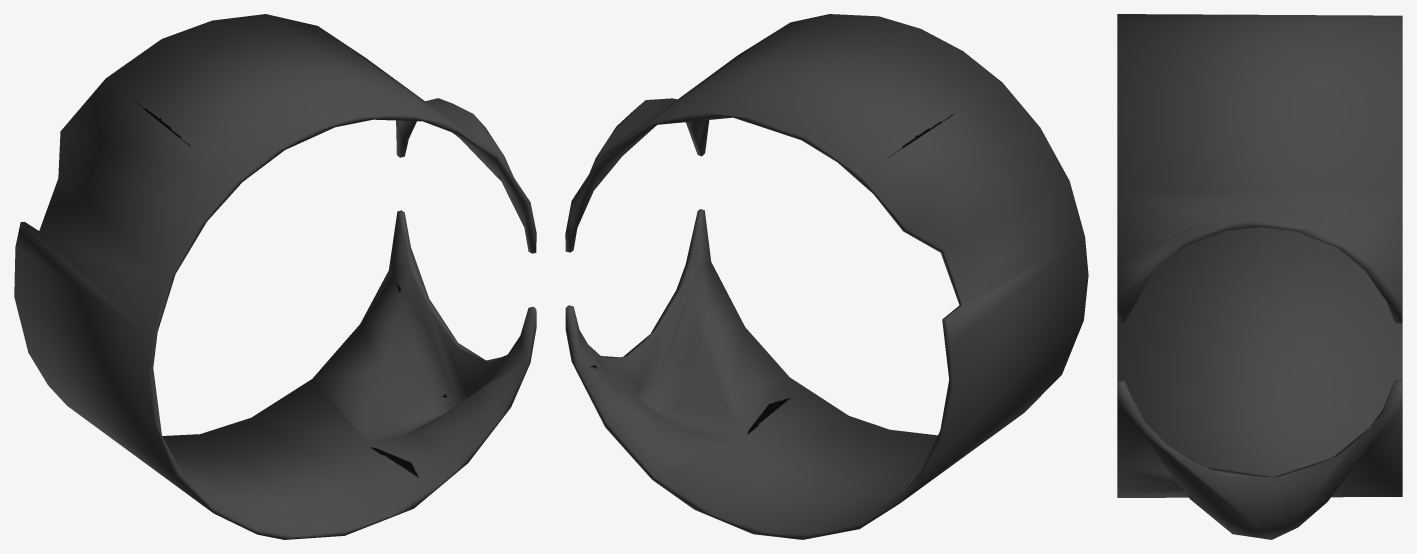
File: l_shoulder_lift_link.OBJ
3 renders of one model, left to right at view 1: azimuth 30°, elevation 25°; view 2: azimuth 150°, elevation 25°; view 3: azimuth 270°, elevation 25°, orthographic. The views are drawn at different scales.
Parts seen in each view (by area): view 1: /ambf/env/pr2/l_shoulder_lift_link_/ambf/env/pr2/l_shoulder_lift; view 2: /ambf/env/pr2/l_shoulder_lift_link_/ambf/env/pr2/l_shoulder_lift; view 3: /ambf/env/pr2/l_shoulder_lift_link_/ambf/env/pr2/l_shoulder_lift.
Part boxes in pixels (box(x1,y1,x2,y2)): /ambf/env/pr2/l_shoulder_lift_link_/ambf/env/pr2/l_shoulder_lift: box(14, 14, 536, 539); /ambf/env/pr2/l_shoulder_lift_link_/ambf/env/pr2/l_shoulder_lift: box(565, 14, 1088, 539); /ambf/env/pr2/l_shoulder_lift_link_/ambf/env/pr2/l_shoulder_lift: box(1117, 14, 1402, 539).
Bounding box in the file's own units: 0.2483 × 0.2547 × 0.15.
